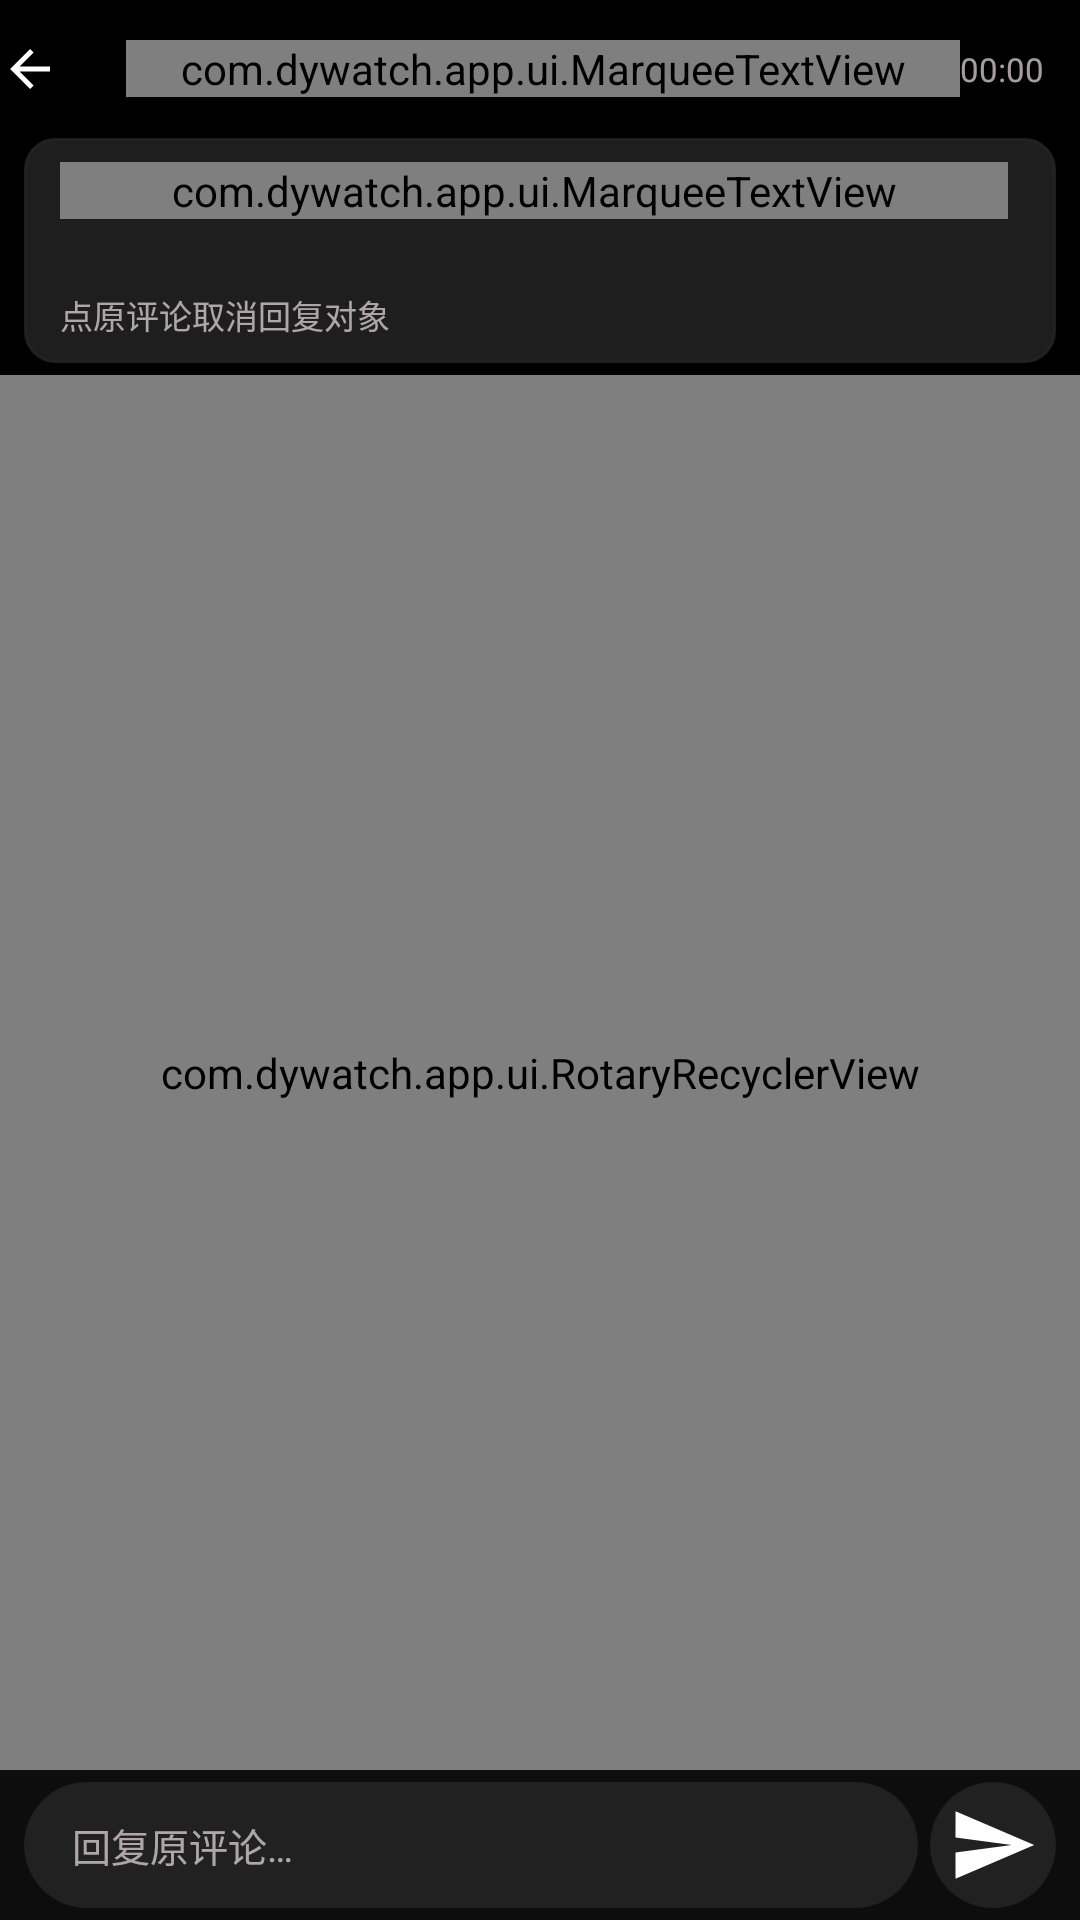

Named icons in this screenshot (1080px×1920px) and their bounding boxes, (x1, y1, x2, y2):
发送回复: (930, 1782, 1056, 1908)
